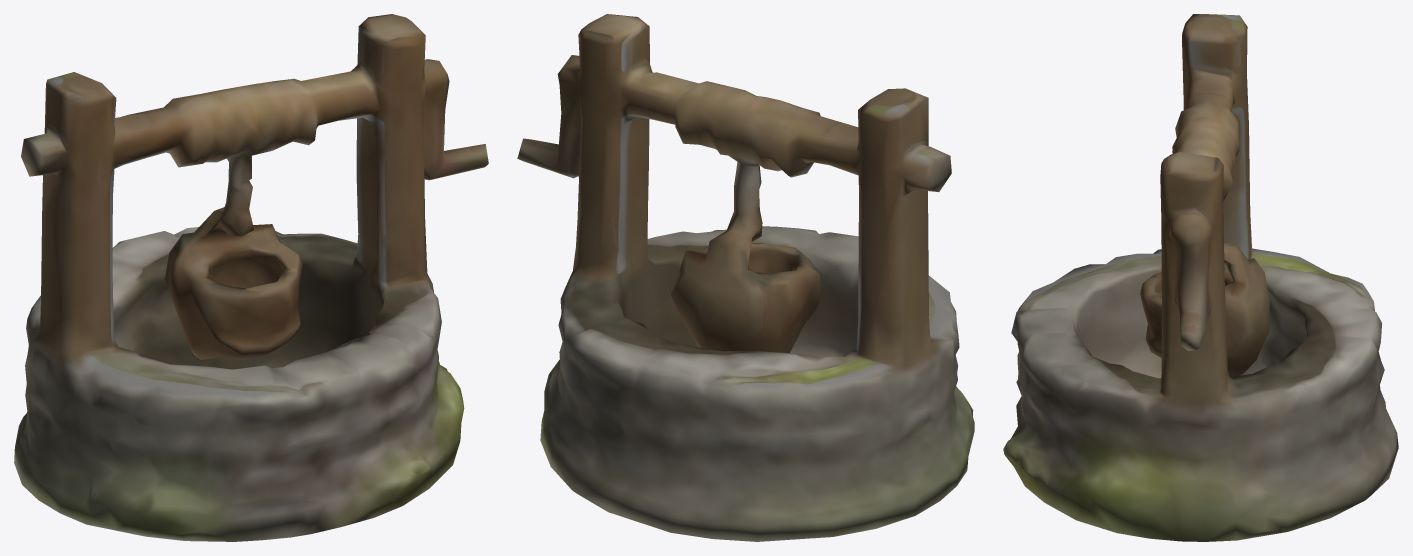
File: stonewell2.glb
3 renders of one model, left to right at view 1: azimuth 30°, elevation 25°; view 2: azimuth 150°, elevation 25°; view 3: azimuth 270°, elevation 25°, orthographic. The views are drawn at different scales.
Visible parts, largest first — view 1: tripo_node_502daf97-e36e-4cc6-a49c-57e3ef5d33a8; view 2: tripo_node_502daf97-e36e-4cc6-a49c-57e3ef5d33a8; view 3: tripo_node_502daf97-e36e-4cc6-a49c-57e3ef5d33a8.
Part boxes in pixels (box(x1,y1,x2,y2)): tripo_node_502daf97-e36e-4cc6-a49c-57e3ef5d33a8: box(14, 14, 488, 541); tripo_node_502daf97-e36e-4cc6-a49c-57e3ef5d33a8: box(517, 14, 974, 541); tripo_node_502daf97-e36e-4cc6-a49c-57e3ef5d33a8: box(1003, 14, 1398, 541).
Bounding box in the file's own units: 1 × 0.8756 × 0.8458.
Materials: 1 (1 with a texture image).
